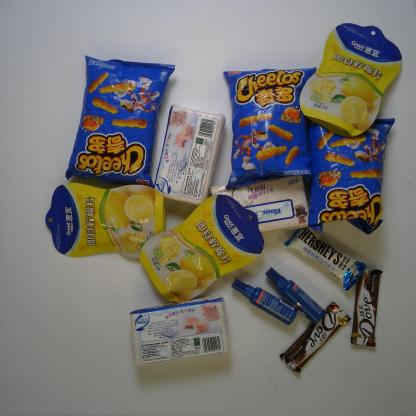Chocolate: (279, 301, 352, 374), (283, 228, 366, 291), (350, 266, 384, 347)
Dried Fruit: (139, 194, 265, 302), (298, 22, 402, 137), (45, 184, 165, 258)
Personal Hygiene: (264, 266, 324, 324), (232, 278, 298, 325)
Puffed Food: (65, 55, 176, 188), (221, 66, 308, 188), (308, 115, 398, 232)
Tissue: (150, 105, 227, 205), (130, 294, 233, 368), (211, 176, 310, 233)
